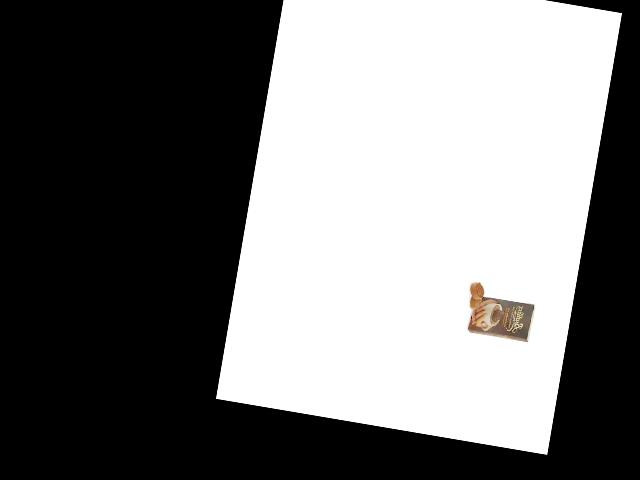chocolate: (465, 288, 538, 345)
